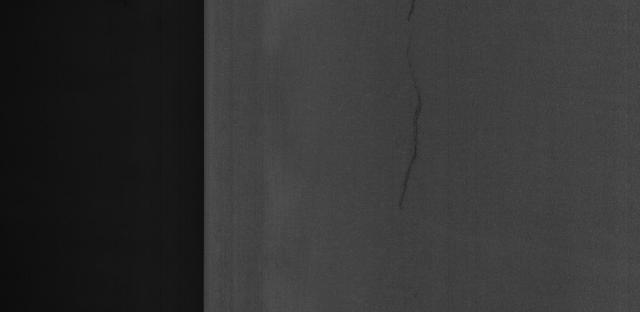water_spot: (384, 6, 443, 222)
